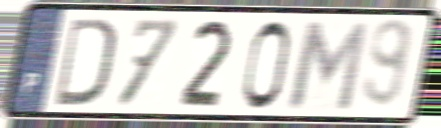0: (240, 17, 294, 112)
2: (178, 18, 232, 110)
7: (116, 16, 181, 110)
9: (360, 16, 416, 117)
D: (52, 15, 118, 108)
M: (286, 18, 372, 114)
